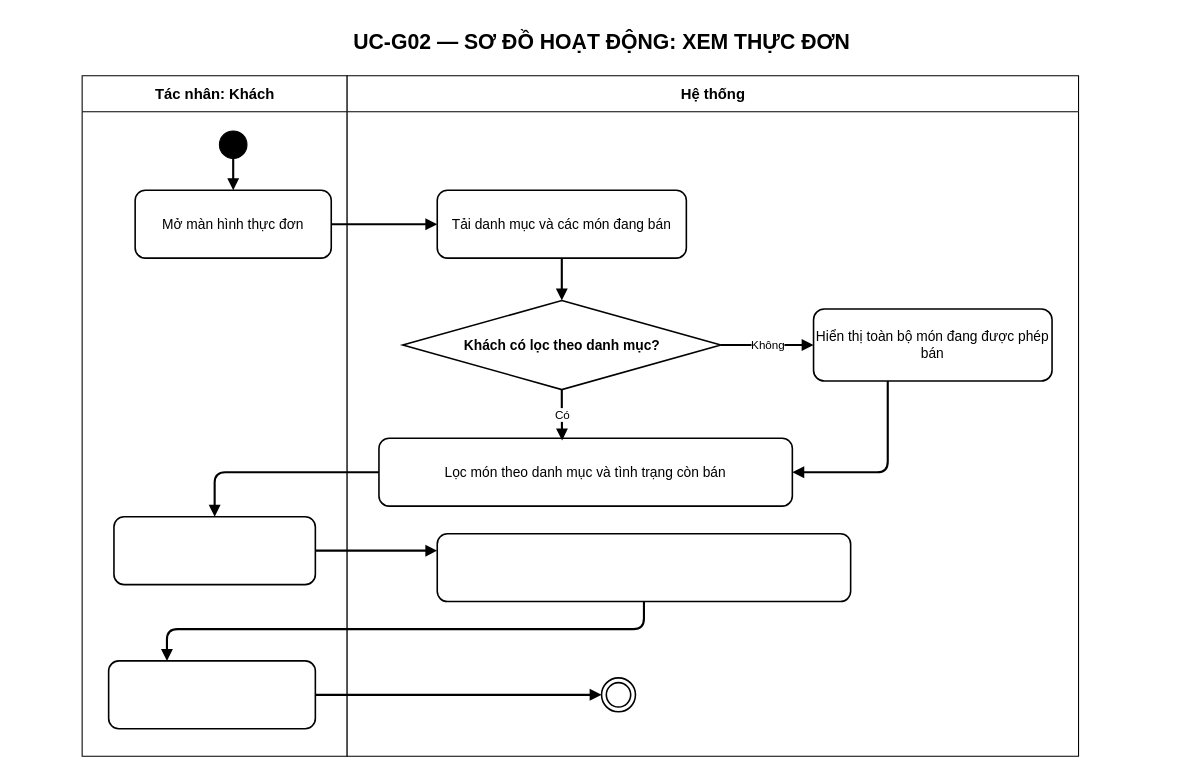
This 1202x775 diagram has some shape labels left out. Each missing label, with the box of its shape:
Chọn món để xem biến thể, tùy chọn và giá: (113, 515, 316, 585)
Trả chi tiết món cùng biến thể và nhóm tùy chọn: (436, 532, 851, 602)
Xem chi tiết hoặc thêm món vào giỏ: (107, 660, 316, 729)
